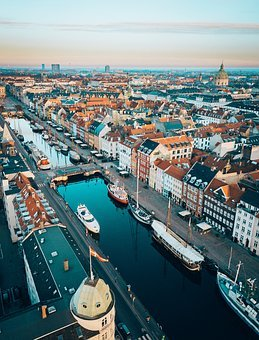Flag: (89, 246, 110, 264)
